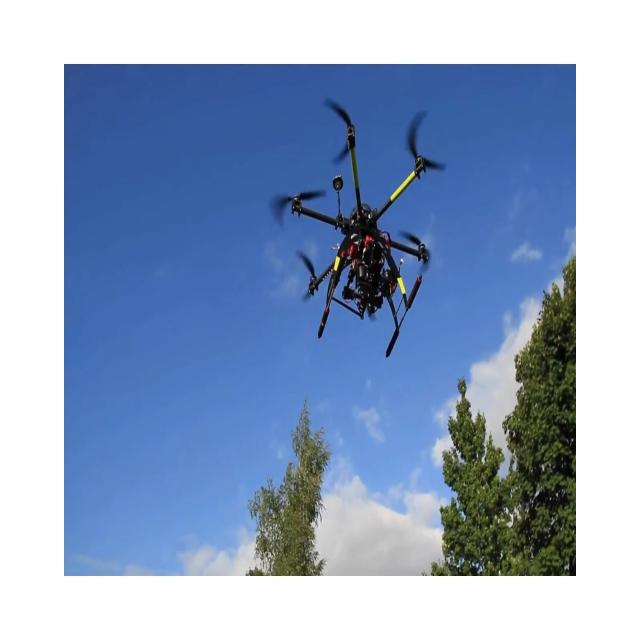drone: (269, 97, 446, 358)
